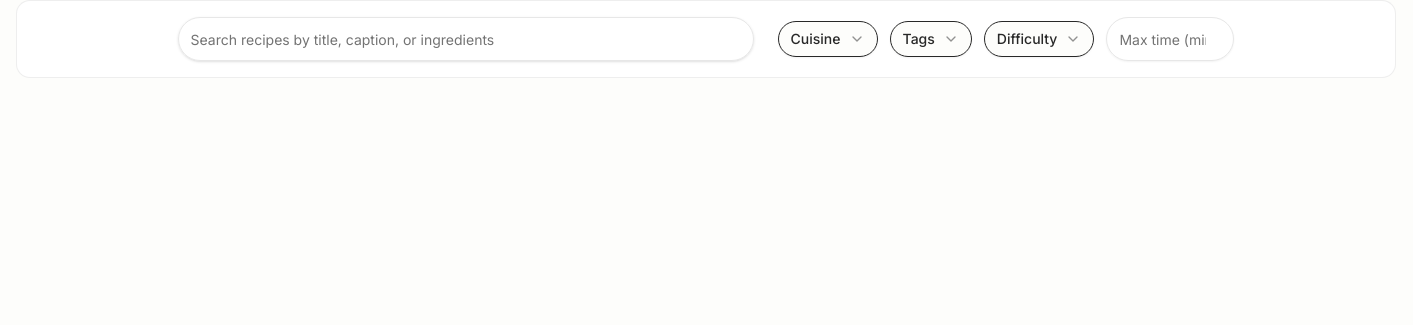
Test: FilterBar › tags filter › should open tags dropdown on button click
The width and height of the screenshot is (1413, 325).
Click the button with test id "tags-filter-trigger" at point(931, 39), box [890,21,972,57]
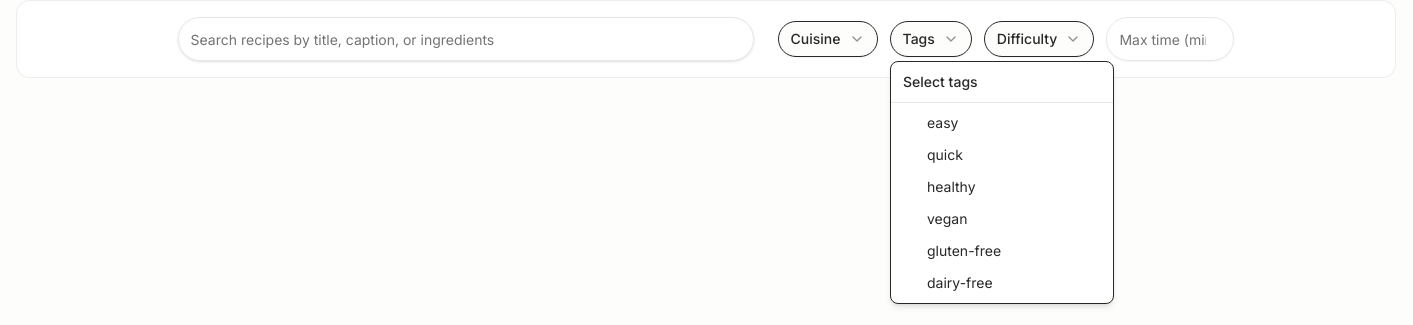
Now the menu item "easy" is shown, box [927,114,958,131]
Now the menu item "quick" is shown, box [927,146,963,163]
Now the menu item "vegan" is shown, box [927,210,968,227]
